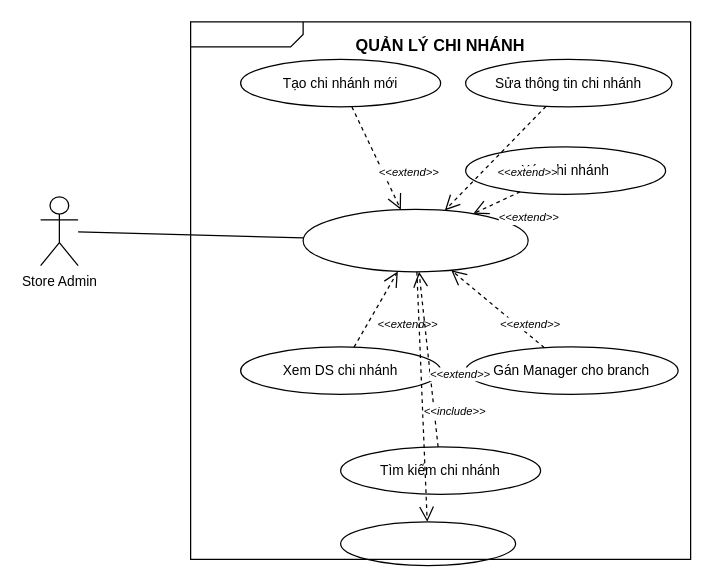
Some shapes in this 713 by 588 pixel diagram are drawn without their labels. The shapes that lost their labels are listed below. From the top down, each one's box as (x1, y1, x2, y2) in pixels, then its label:
(302, 208, 528, 272): Quản lý chi nhánh (from Model)
(339, 521, 516, 566): Đăng nhập
